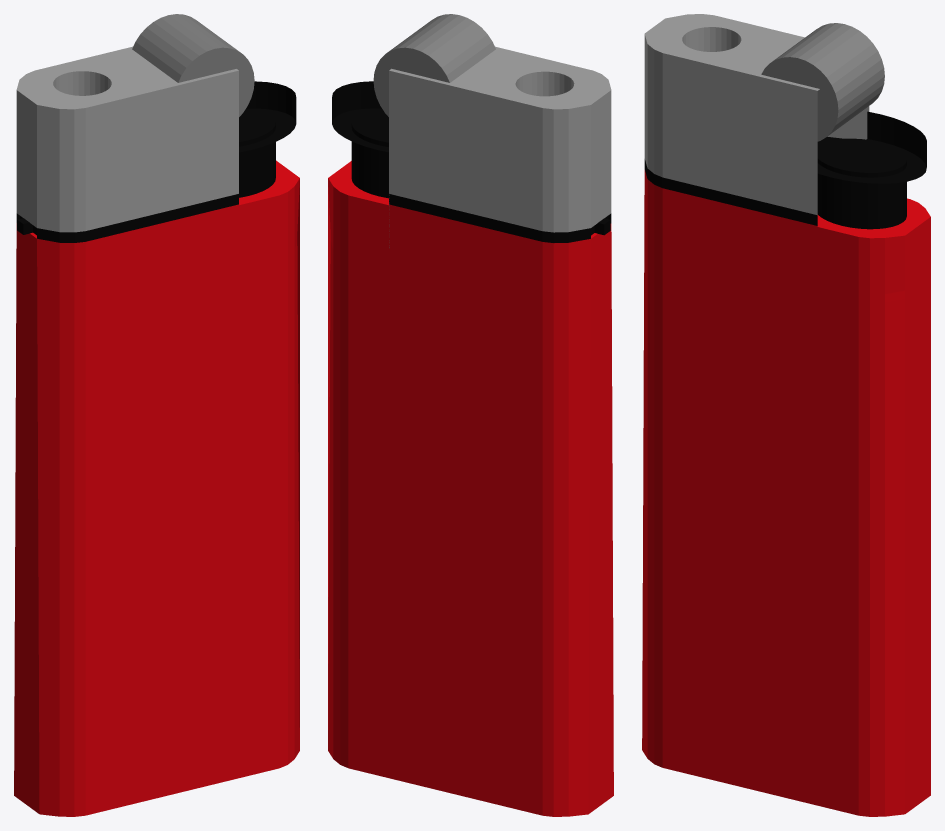
The model's file is lighter.fbx.
3 views of the same model, side by side, from view 1: azimuth 30°, elevation 25°; view 2: azimuth 150°, elevation 25°; view 3: azimuth 330°, elevation 25° (orthographic).
Parts seen in each view (by area): view 1: Cube.001; view 2: Cube.001; view 3: Cube.001.
Part boxes in pixels (bbox=[...]): Cube.001: bbox=[14, 14, 299, 816]; Cube.001: bbox=[328, 14, 613, 816]; Cube.001: bbox=[642, 14, 930, 816].
Bounding box in the file's own units: 79.95 × 206 × 26.07.
